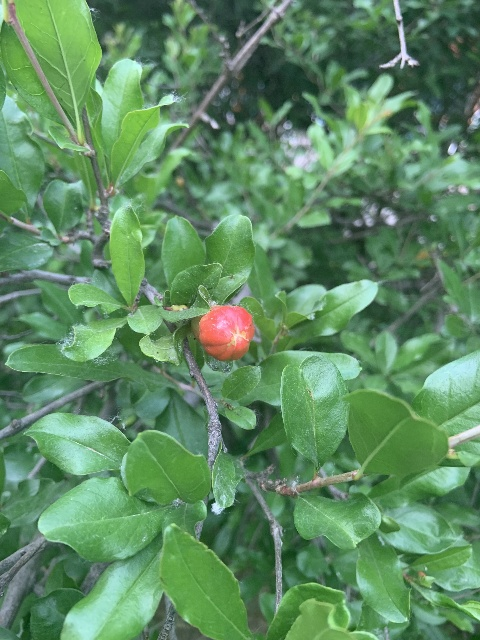bud: (197, 304, 253, 361)
